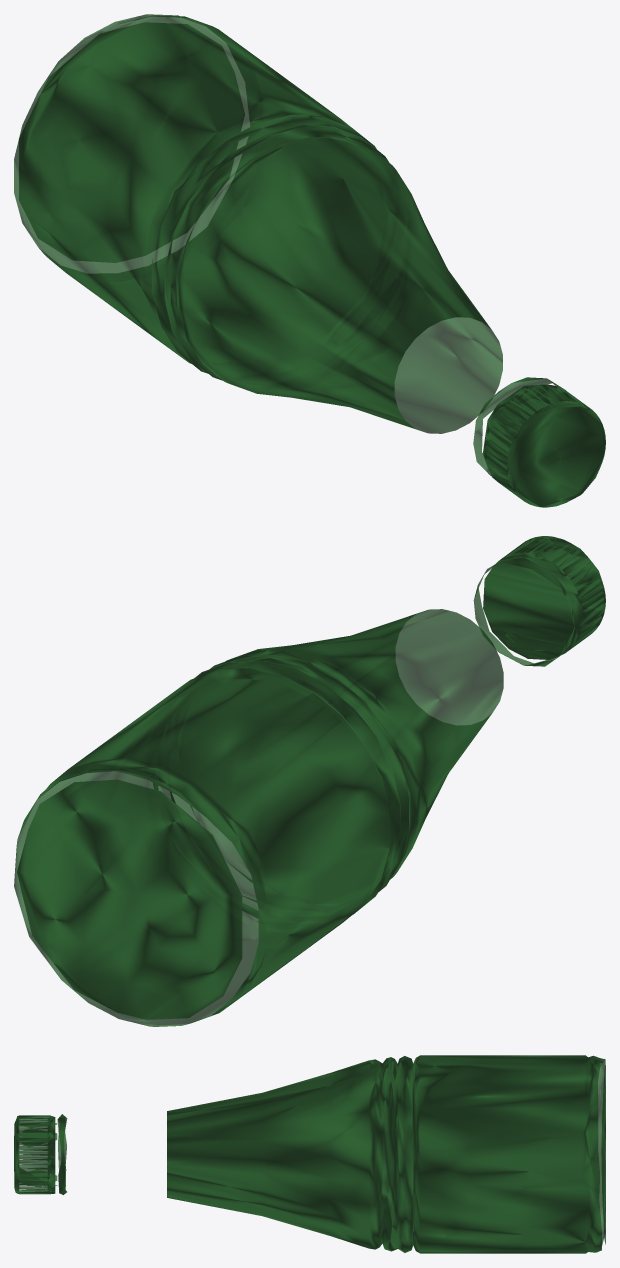
Rendered from model_align.obj.
3 views of the same model, one above another, from view 1: azimuth 30°, elevation 25°; view 2: azimuth 150°, elevation 25°; view 3: azimuth 270°, elevation 25° (orthographic). The views are drawn at different scales.
Bounding box in the file's own units: 0.0525 × 0.0525 × 0.1581.
